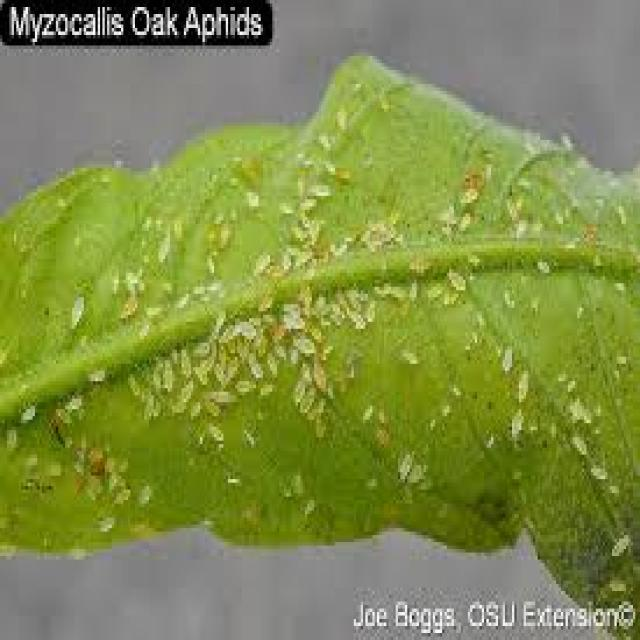aphid: (58, 283, 91, 336), (600, 518, 633, 563), (438, 255, 470, 298), (244, 241, 277, 280), (494, 336, 522, 378), (503, 399, 528, 444), (307, 353, 333, 395), (128, 476, 156, 514), (510, 360, 533, 406), (105, 479, 135, 514), (403, 245, 435, 276), (328, 95, 352, 136), (391, 440, 414, 482), (79, 357, 110, 388), (12, 392, 37, 430), (174, 367, 198, 406), (240, 178, 265, 214), (49, 402, 77, 434), (90, 507, 118, 539), (288, 325, 316, 357), (228, 367, 256, 399), (305, 171, 333, 203), (172, 339, 193, 381), (289, 238, 314, 273), (205, 301, 228, 339), (565, 423, 589, 458), (454, 178, 484, 206), (260, 343, 282, 381), (156, 350, 174, 395), (584, 455, 610, 486), (121, 364, 142, 402), (394, 339, 422, 367), (168, 280, 193, 311), (286, 370, 307, 406), (295, 490, 319, 521), (354, 395, 377, 427), (207, 381, 233, 409), (140, 294, 163, 325), (202, 416, 224, 448), (233, 311, 258, 339), (130, 315, 152, 346), (60, 388, 84, 416), (39, 454, 63, 482), (344, 304, 368, 332), (137, 388, 156, 423), (200, 245, 219, 280), (531, 248, 554, 276), (328, 231, 349, 259), (608, 270, 628, 298), (454, 203, 472, 234), (18, 444, 40, 469), (405, 269, 421, 301), (558, 371, 580, 392), (610, 343, 628, 367)
